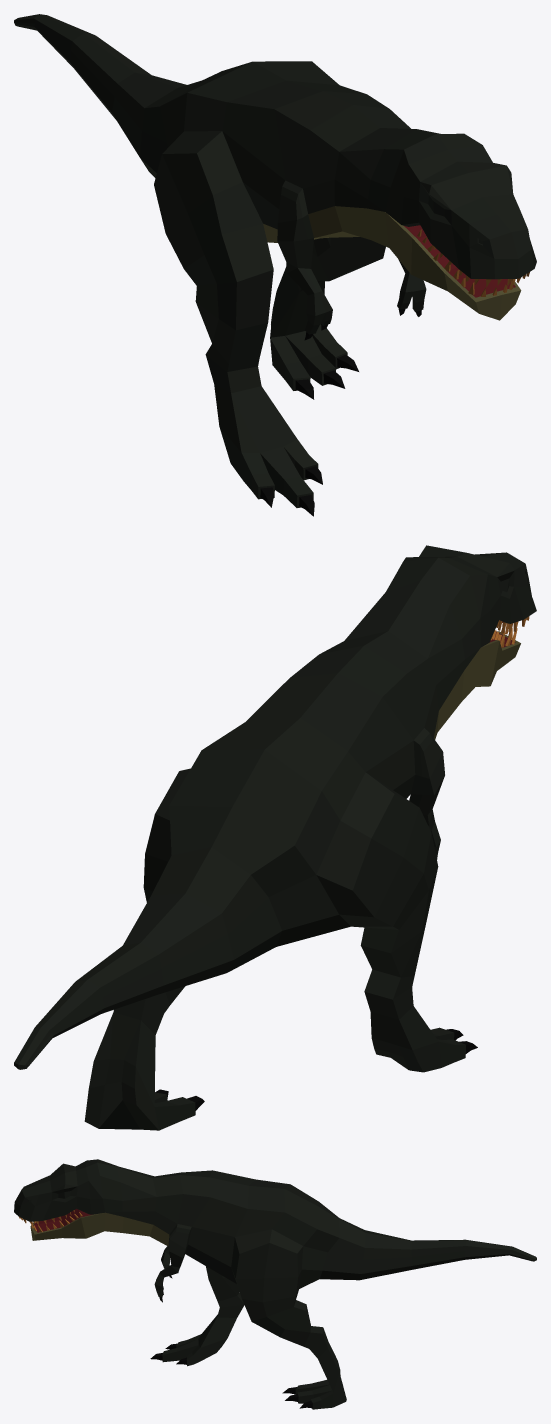
The model's file is Trex_000015.obj.
3 renders of one model, top to bottom at view 1: azimuth 30°, elevation 25°; view 2: azimuth 150°, elevation 25°; view 3: azimuth 270°, elevation 25°, orthographic. The views are drawn at different scales.
Visible parts, largest first — view 1: Trex_Cylinder; view 2: Trex_Cylinder; view 3: Trex_Cylinder.
Part boxes in pixels (x1,y1,x2,y2): Trex_Cylinder: [14, 14, 536, 516]; Trex_Cylinder: [14, 545, 536, 1130]; Trex_Cylinder: [14, 1159, 536, 1409].
Bounding box in the file's own units: 8.21 × 14.4 × 31.31.
